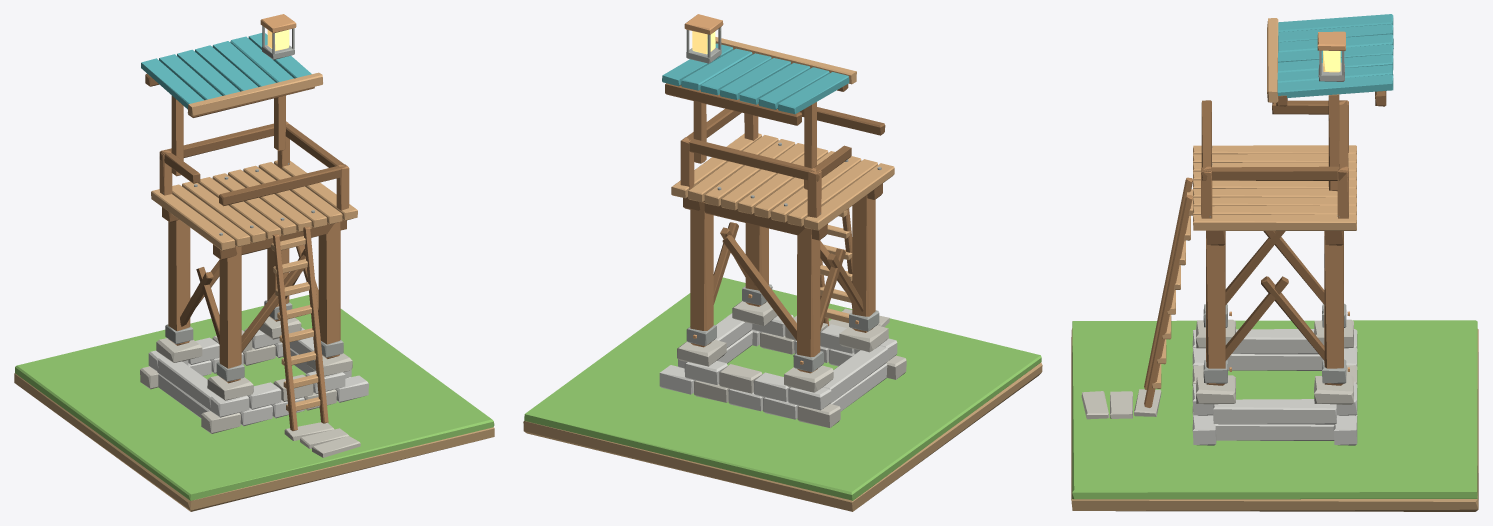
The model's file is tower_l01_active_LOD1.glb.
The picture shows the model from 3 angles, left to right: view 1: azimuth 30°, elevation 25°; view 2: azimuth 150°, elevation 25°; view 3: azimuth 270°, elevation 25°; orthographic projection. The views are drawn at different scales.
Parts seen in each view (by area): view 1: tower_l01_grass_tile_tower_l01_active_LOD1_tmp, tower_l01_earth_tile_tower_l01_active_LOD1_tmp, upright_-0.58_-0.52_tower_l01_active_LOD1_tmp, upright_0.58_-0.52_tower_l01_active_LOD1_tmp, upright_-0.58_0.52_tower_l01_active_LOD1_tmp, canopy_front_trim_tower_l01_active_LOD1_tmp, parapet_long_-0.6_tower_l01_active_LOD1_tmp, deck_board_0_tower_l01_active_LOD1_tmp, ladder_rail_-0.18_tower_l01_active_LOD1_tmp, ladder_rail_0.18_tower_l01_active_LOD1_tmp, plinth_return_1_-0.73_tower_l01_active_LOD1_tmp, parapet_long_0.6_tower_l01_active_LOD1_tmp (+34 smaller); view 2: tower_l01_grass_tile_tower_l01_active_LOD1_tmp, tower_l01_earth_tile_tower_l01_active_LOD1_tmp, upright_-0.58_0.52_tower_l01_active_LOD1_tmp, upright_0.58_0.52_tower_l01_active_LOD1_tmp, upright_-0.58_-0.52_tower_l01_active_LOD1_tmp, parapet_long_0.6_tower_l01_active_LOD1_tmp, deck_board_0_tower_l01_active_LOD1_tmp, canopy_crossbar_0.93_tower_l01_active_LOD1_tmp, plinth_return_1_-0.73_tower_l01_active_LOD1_tmp, deck_bearer_0.52_tower_l01_active_LOD1_tmp, rear_brace_0.52_tower_l01_active_LOD1_tmp, canopy_board_0_tower_l01_active_LOD1_tmp (+36 smaller); view 3: tower_l01_grass_tile_tower_l01_active_LOD1_tmp, tower_l01_earth_tile_tower_l01_active_LOD1_tmp, plinth_return_1_0.73_tower_l01_active_LOD1_tmp, deck_board_8_tower_l01_active_LOD1_tmp, upright_0.58_0.52_tower_l01_active_LOD1_tmp, upright_0.58_-0.52_tower_l01_active_LOD1_tmp, plinth_return_0_0.73_tower_l01_active_LOD1_tmp, canopy_board_6_tower_l01_active_LOD1_tmp, parapet_right_tower_l01_active_LOD1_tmp, plinth_return_1_-0.73_tower_l01_active_LOD1_tmp, ladder_rail_0.18_tower_l01_active_LOD1_tmp, plinth_return_0_-0.73_tower_l01_active_LOD1_tmp (+35 smaller).
Part boxes in pixels (x1,y1,x2,y2): tower_l01_grass_tile_tower_l01_active_LOD1_tmp: (15, 295, 494, 500); tower_l01_earth_tile_tower_l01_active_LOD1_tmp: (14, 373, 494, 511); upright_-0.58_-0.52_tower_l01_active_LOD1_tmp: (219, 246, 241, 383); upright_0.58_-0.52_tower_l01_active_LOD1_tmp: (318, 222, 340, 358); upright_-0.58_0.52_tower_l01_active_LOD1_tmp: (168, 220, 190, 345); canopy_front_trim_tower_l01_active_LOD1_tmp: (187, 72, 322, 116); parapet_long_-0.6_tower_l01_active_LOD1_tmp: (219, 164, 348, 206); deck_board_0_tower_l01_active_LOD1_tmp: (151, 189, 234, 250); ladder_rail_-0.18_tower_l01_active_LOD1_tmp: (272, 234, 297, 430); ladder_rail_0.18_tower_l01_active_LOD1_tmp: (303, 226, 328, 423); plinth_return_1_-0.73_tower_l01_active_LOD1_tmp: (157, 357, 216, 410); parapet_long_0.6_tower_l01_active_LOD1_tmp: (159, 121, 287, 161); tower_l01_grass_tile_tower_l01_active_LOD1_tmp: (524, 277, 1041, 500); tower_l01_earth_tile_tower_l01_active_LOD1_tmp: (523, 362, 1042, 511); upright_-0.58_0.52_tower_l01_active_LOD1_tmp: (797, 228, 820, 373); upright_0.58_0.52_tower_l01_active_LOD1_tmp: (690, 201, 713, 347); upright_-0.58_-0.52_tower_l01_active_LOD1_tmp: (852, 195, 875, 332); parapet_long_0.6_tower_l01_active_LOD1_tmp: (681, 137, 820, 181); deck_board_0_tower_l01_active_LOD1_tmp: (804, 163, 894, 230); canopy_crossbar_0.93_tower_l01_active_LOD1_tmp: (665, 83, 802, 125); plinth_return_1_-0.73_tower_l01_active_LOD1_tmp: (823, 345, 887, 403); deck_bearer_0.52_tower_l01_active_LOD1_tmp: (683, 197, 827, 240); rear_brace_0.52_tower_l01_active_LOD1_tmp: (722, 235, 796, 340); canopy_board_0_tower_l01_active_LOD1_tmp: (778, 72, 849, 114); tower_l01_grass_tile_tower_l01_active_LOD1_tmp: (1072, 320, 1477, 499); tower_l01_earth_tile_tower_l01_active_LOD1_tmp: (1071, 328, 1478, 511); plinth_return_1_0.73_tower_l01_active_LOD1_tmp: (1213, 399, 1336, 424); deck_board_8_tower_l01_active_LOD1_tmp: (1193, 214, 1356, 230); upright_0.58_0.52_tower_l01_active_LOD1_tmp: (1324, 231, 1343, 385); upright_0.58_-0.52_tower_l01_active_LOD1_tmp: (1206, 231, 1225, 385); plinth_return_0_0.73_tower_l01_active_LOD1_tmp: (1214, 424, 1334, 440); canopy_board_6_tower_l01_active_LOD1_tmp: (1277, 74, 1393, 97); parapet_right_tower_l01_active_LOD1_tmp: (1204, 166, 1345, 180); plinth_return_1_-0.73_tower_l01_active_LOD1_tmp: (1232, 329, 1318, 354); ladder_rail_0.18_tower_l01_active_LOD1_tmp: (1144, 195, 1192, 407); plinth_return_0_-0.73_tower_l01_active_LOD1_tmp: (1227, 354, 1323, 370).
Size of the model in its own units: 3.6 by 4.04 by 3.58.
